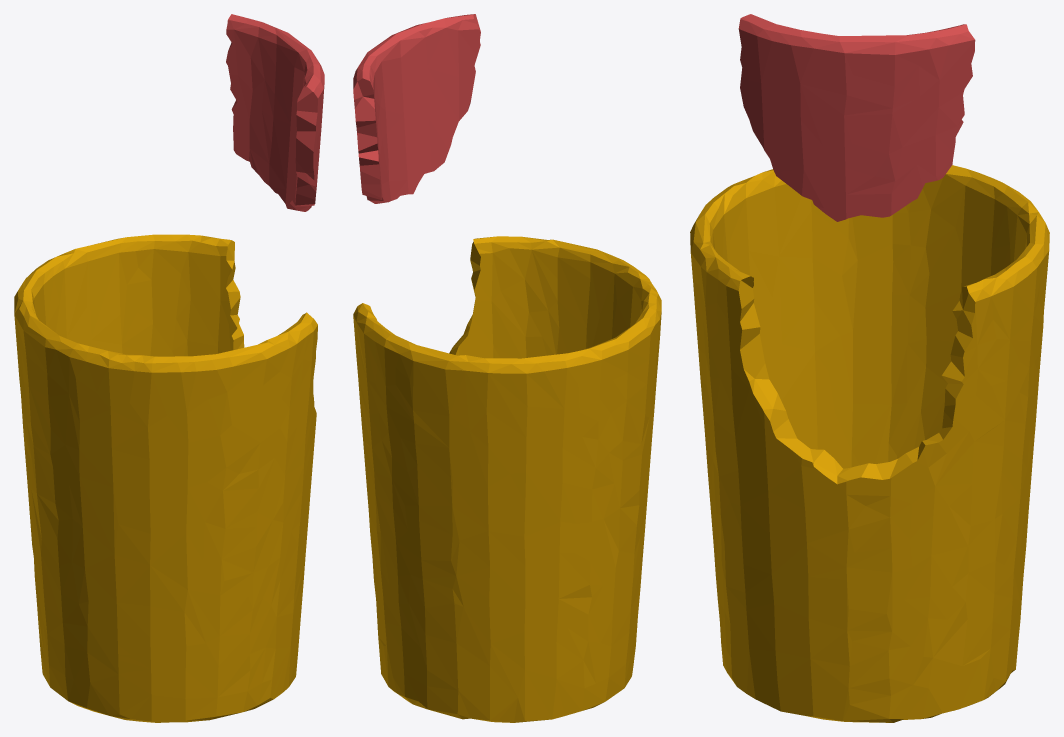
The model's file is fractured_61_2pcs_transformed.glb.
3 views of the same model, side by side, from view 1: azimuth 30°, elevation 25°; view 2: azimuth 150°, elevation 25°; view 3: azimuth 270°, elevation 25° (orthographic). The views are drawn at different scales.
Visible parts, largest first — view 1: piece_0.obj, piece_1.obj; view 2: piece_0.obj, piece_1.obj; view 3: piece_0.obj, piece_1.obj.
Boxes of the visible parts, <box> form: piece_0.obj: <box>14,234,317,722</box>; piece_1.obj: <box>226,14,324,211</box>; piece_0.obj: <box>353,236,661,722</box>; piece_1.obj: <box>353,14,480,203</box>; piece_0.obj: <box>690,165,1049,722</box>; piece_1.obj: <box>738,14,975,221</box>.
Bounding box in the file's own units: 0.7449 × 1.6 × 0.746.
